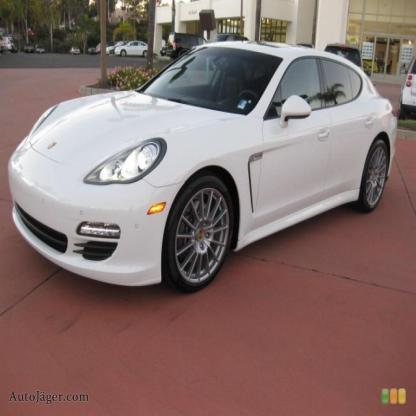Vehicle: (8, 40, 400, 297)
